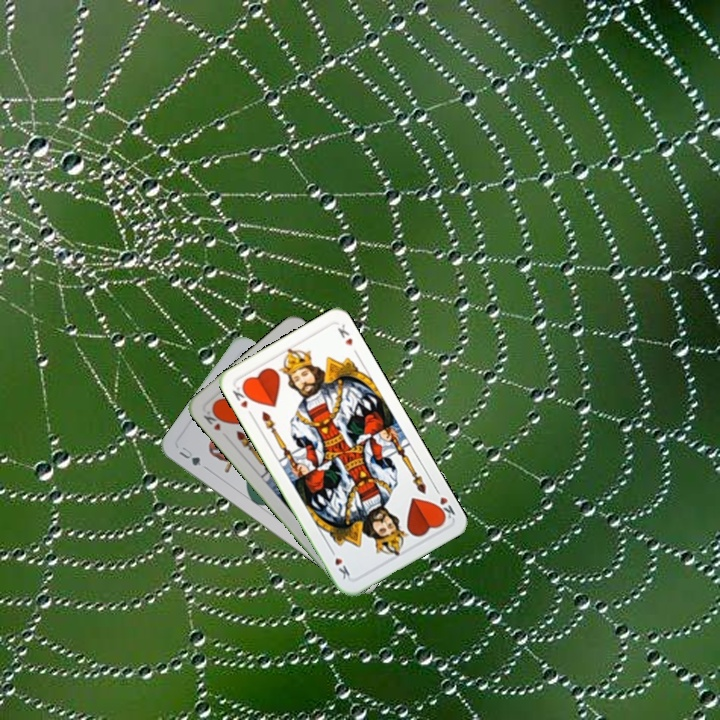GU: (175, 443, 204, 468)
HK: (431, 483, 458, 524), (228, 381, 256, 419), (199, 404, 226, 434)
